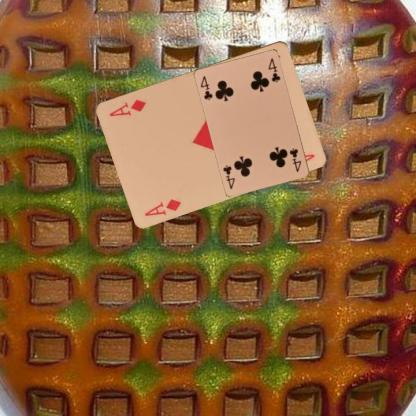4c: (198, 73, 214, 102), (287, 146, 303, 174)
Ad: (142, 196, 183, 218)
